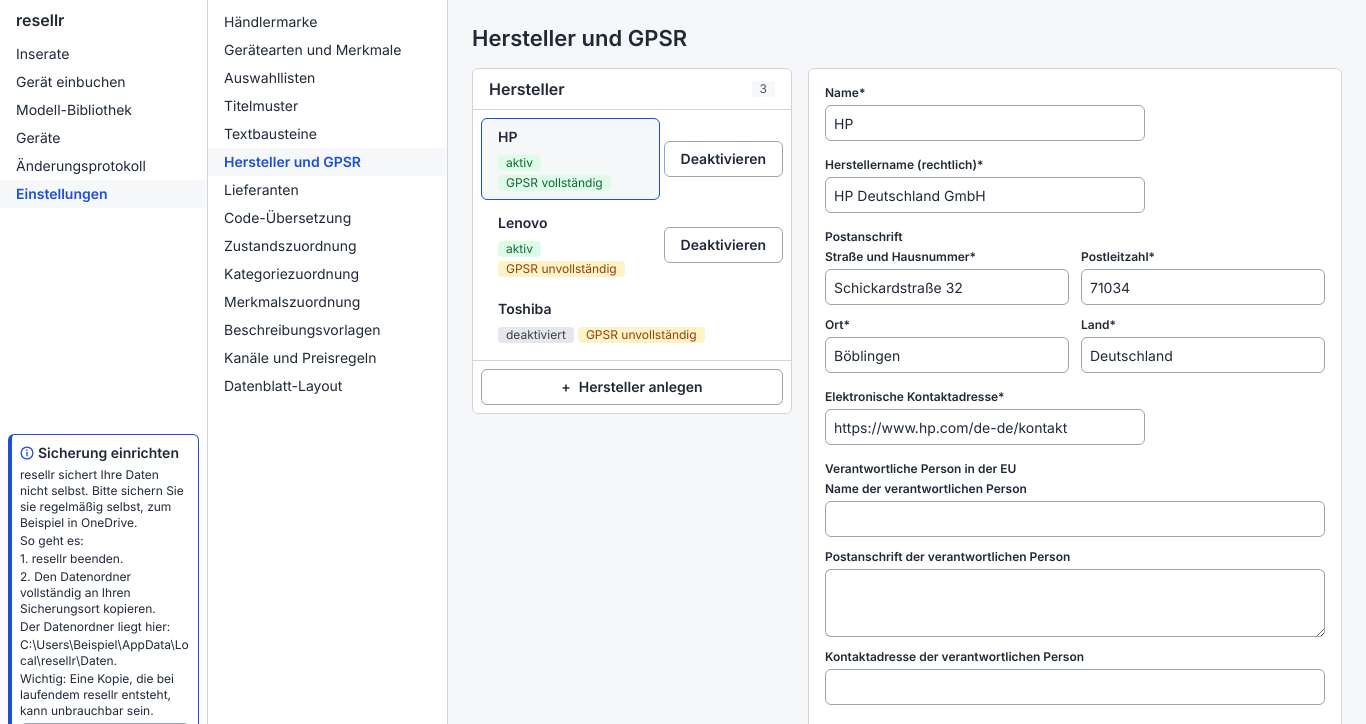
UI-031 GPSR details and UI-043 (#165) › UI-031.validation DER-41-03 names each missing part of a manufacturer with incomplete details as "<Teil> fehlt" at its field
Expected: the button "HP aktiv GPSR vollständig" is shown, x1=481 y1=118 x2=660 y2=200
Expected: the field labelled "Name" holds "HP", x1=825 y1=105 x2=1145 y2=141
What coordinates should you click on to do the following:
click the button "Lenovo aktiv GPSR unvollständig"
I would click on:
 (570, 245)
Its box is x1=481 y1=204 x2=660 y2=286.
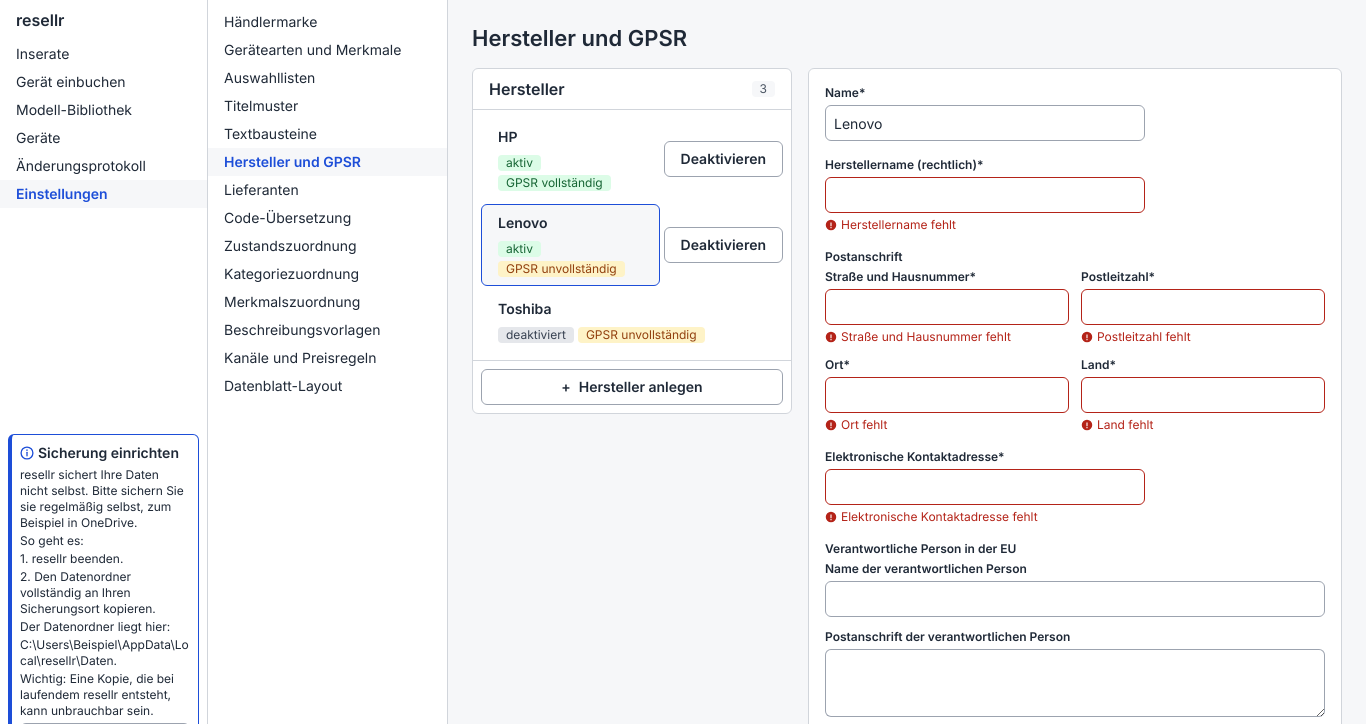
Expected: the heading "Hersteller und GPSR" is shown, x1=472 y1=25 x2=687 y2=51
Expected: the field labelled "Name" holds "Lenovo", x1=825 y1=105 x2=1145 y2=141
